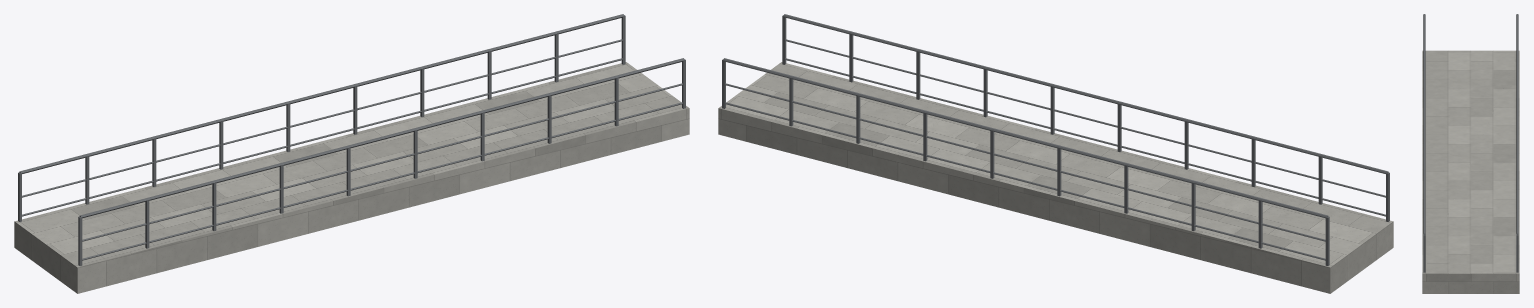
3 renders of one model, left to right at view 1: azimuth 30°, elevation 25°; view 2: azimuth 150°, elevation 25°; view 3: azimuth 270°, elevation 25°, orthographic. The views are drawn at different scales.
Parts seen in each view (by area): view 1: hanaSquare-ne-s__deck, hanaSquare-ne-s__frame; view 2: hanaSquare-ne-s__deck, hanaSquare-ne-s__frame; view 3: hanaSquare-ne-s__deck, hanaSquare-ne-s__frame.
Part boxes in pixels (box(x1,y1,x2,y2)): hanaSquare-ne-s__deck: box(14, 62, 689, 293); hanaSquare-ne-s__frame: box(18, 14, 685, 265); hanaSquare-ne-s__deck: box(718, 62, 1393, 293); hanaSquare-ne-s__frame: box(722, 14, 1389, 265); hanaSquare-ne-s__deck: box(1422, 50, 1519, 293); hanaSquare-ne-s__frame: box(1423, 14, 1518, 272).
Bounding box in the file's own units: 14.55 × 1.96 × 2.6.
2 materials, 1 textured.
